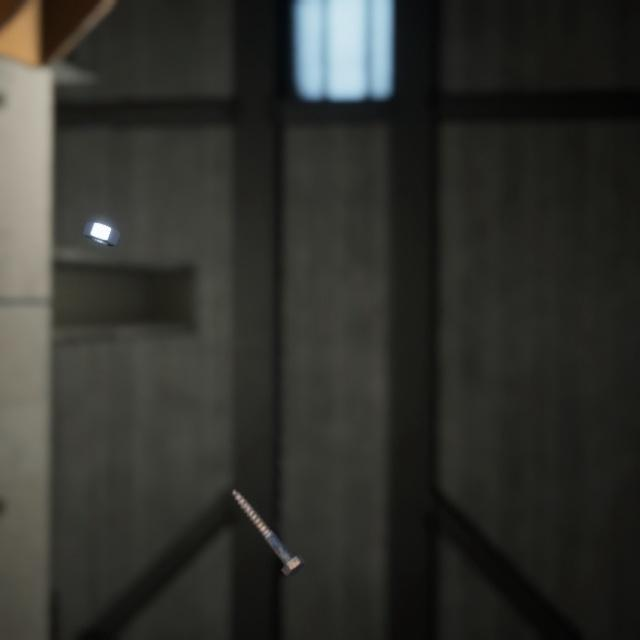bolt: (228, 462, 310, 558)
nut: (78, 201, 124, 235)
